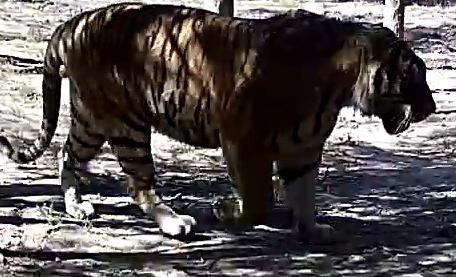tiger: (0, 3, 435, 239)
